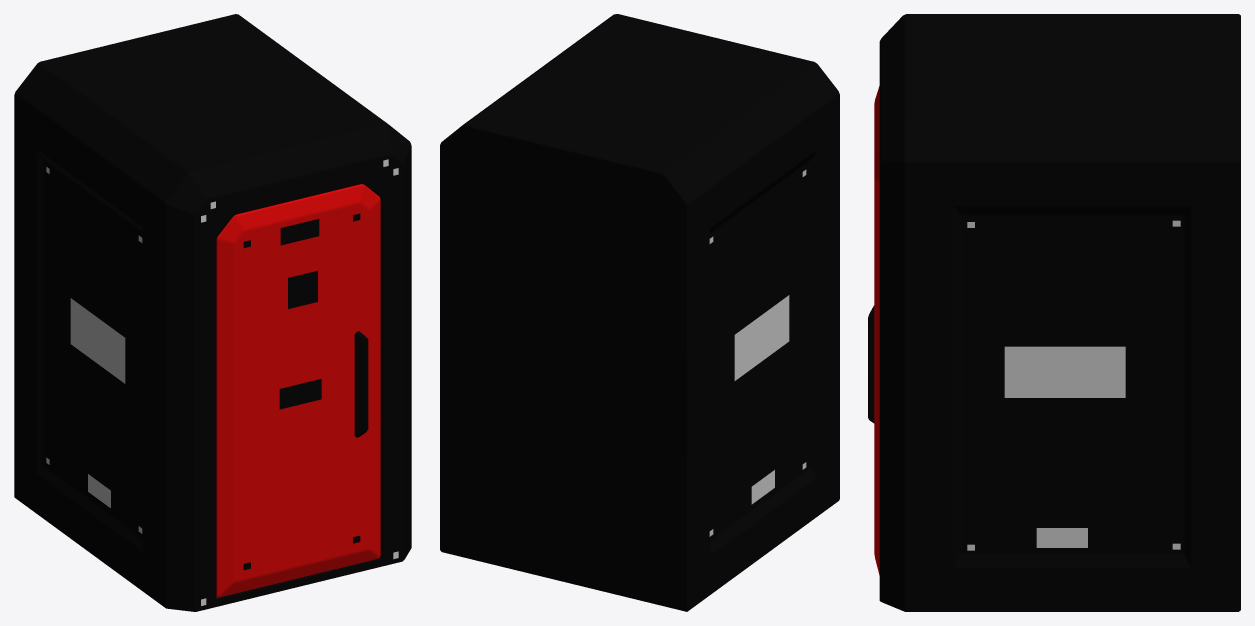
The model's file is restroom_cabin.glb.
3 renders of one model, left to right at view 1: azimuth 30°, elevation 25°; view 2: azimuth 150°, elevation 25°; view 3: azimuth 270°, elevation 25°, orthographic. The views are drawn at different scales.
Visible parts, largest first — view 1: restroom_cabin, restroom_cabin_door, restroom_cabin_decals; view 2: restroom_cabin, restroom_cabin_decals; view 3: restroom_cabin, restroom_cabin_decals, restroom_cabin_door.
Boxes of the visible parts, bbox=[...] form: restroom_cabin: bbox=[14, 14, 411, 611]; restroom_cabin_door: bbox=[216, 184, 380, 597]; restroom_cabin_decals: bbox=[46, 159, 398, 605]; restroom_cabin: bbox=[440, 14, 839, 611]; restroom_cabin_decals: bbox=[709, 169, 806, 536]; restroom_cabin: bbox=[879, 14, 1240, 611]; restroom_cabin_decals: bbox=[967, 220, 1180, 550]; restroom_cabin_door: bbox=[868, 86, 879, 575].
Size of the model in its own units: 1.5 by 2.5 by 1.77.
